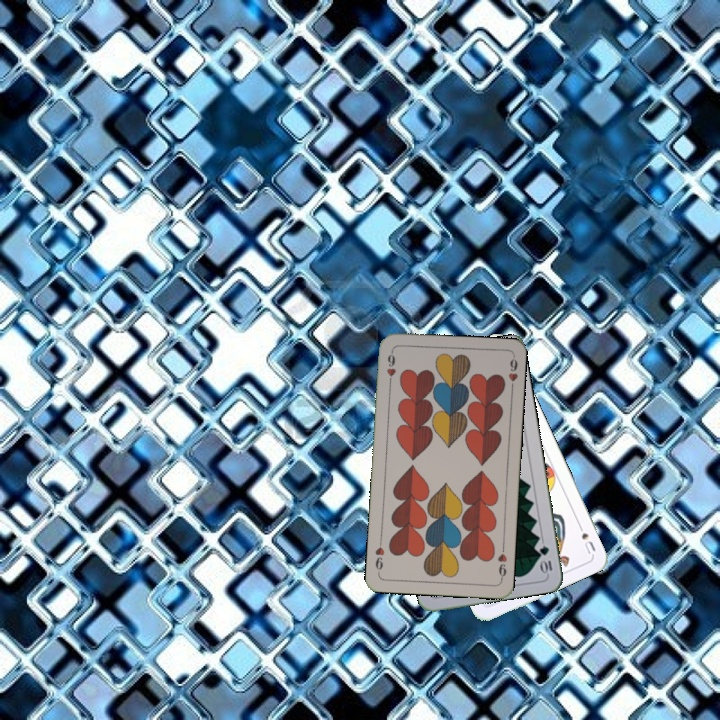G10: (535, 542, 555, 576)
H9: (494, 542, 510, 582), (382, 347, 398, 387)
SU: (573, 518, 598, 557)
